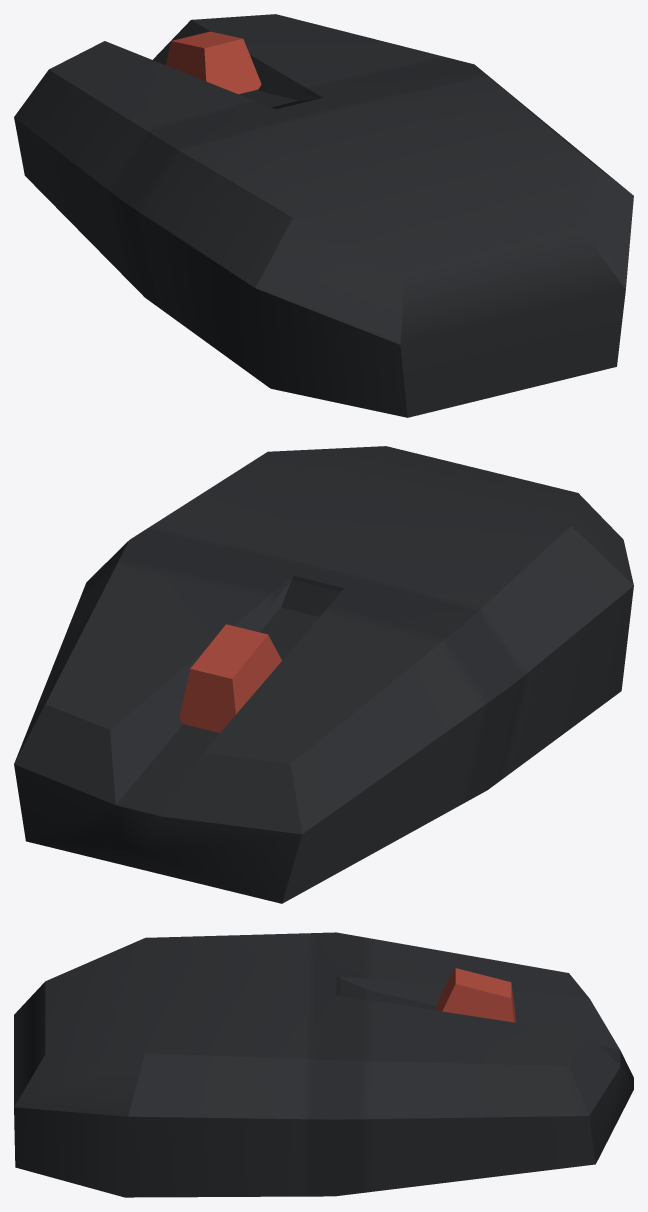
The model's file is SM_Prop_Mouse_01.fbx.
The picture shows the model from 3 angles, top to bottom: view 1: azimuth 30°, elevation 25°; view 2: azimuth 150°, elevation 25°; view 3: azimuth 270°, elevation 25°; orthographic projection. The views are drawn at different scales.
Parts seen in each view (by area): view 1: SM_Prop_Mouse_01; view 2: SM_Prop_Mouse_01; view 3: SM_Prop_Mouse_01.
Boxes of the visible parts, <box> form: SM_Prop_Mouse_01: <box>14,14,633,417</box>; SM_Prop_Mouse_01: <box>14,446,633,903</box>; SM_Prop_Mouse_01: <box>14,932,633,1197</box>.
Bounding box in the file's own units: 7.91 × 3.16 × 12.82.
